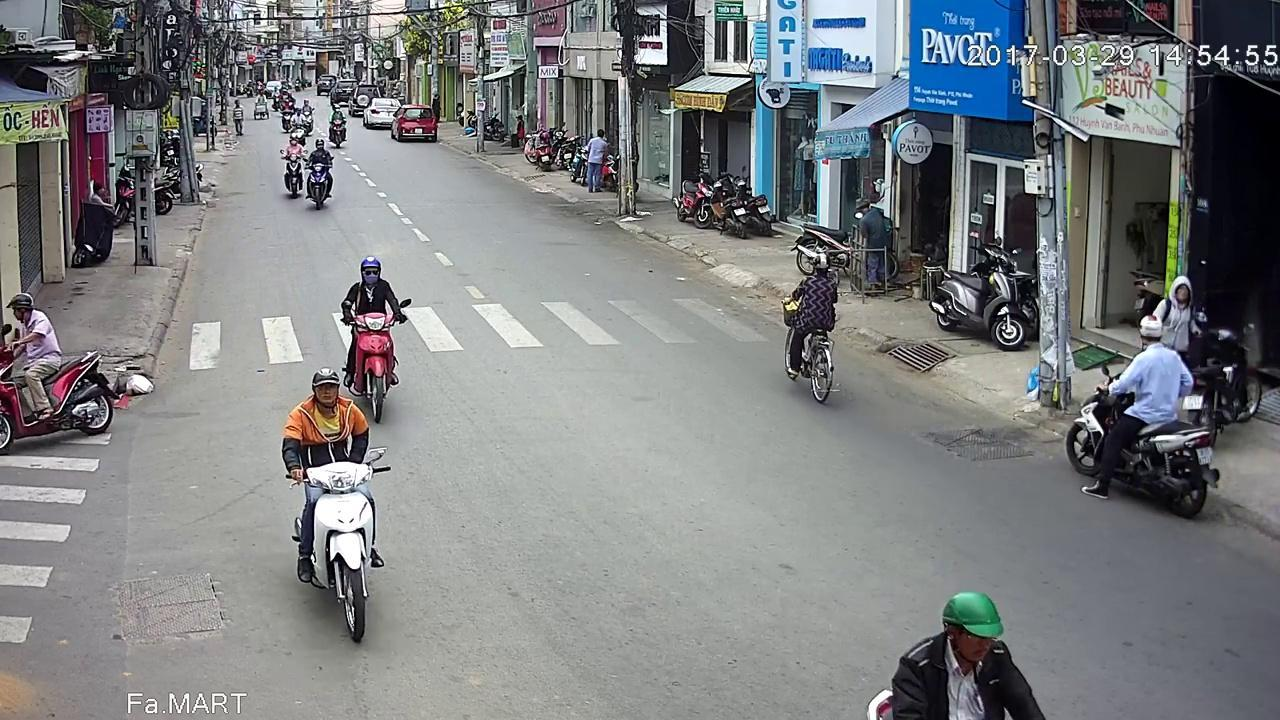xe dap: (779, 253, 837, 403)
xe hoi: (397, 104, 442, 141)
xe may: (1067, 319, 1221, 524), (275, 369, 385, 643), (332, 256, 405, 424), (302, 141, 336, 214), (276, 137, 305, 203), (330, 102, 349, 148), (299, 96, 318, 132)
